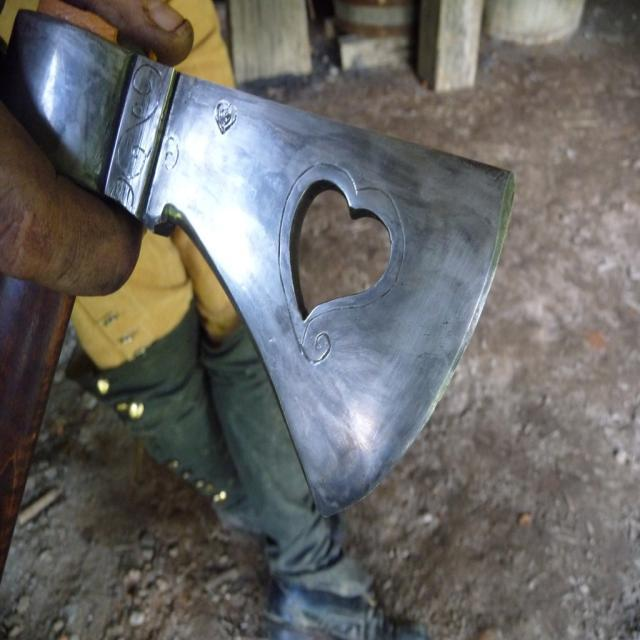Axe: (0, 12, 512, 514), (0, 279, 70, 558)
